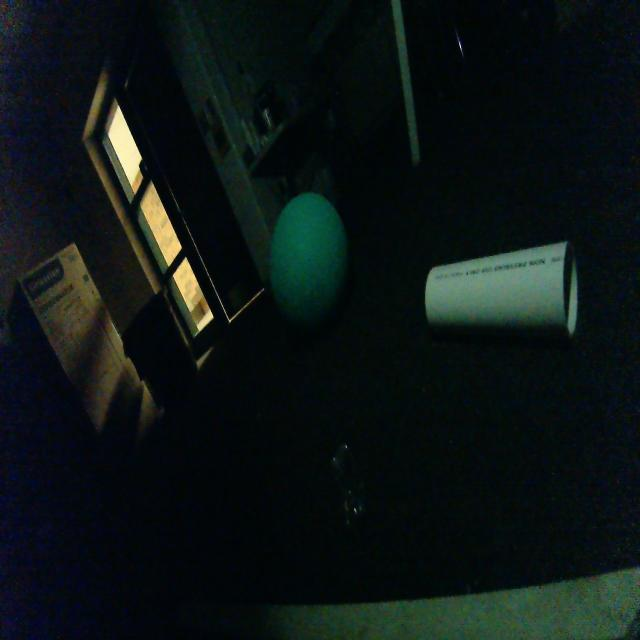algae: (266, 184, 352, 327)
coral: (421, 234, 580, 344)
